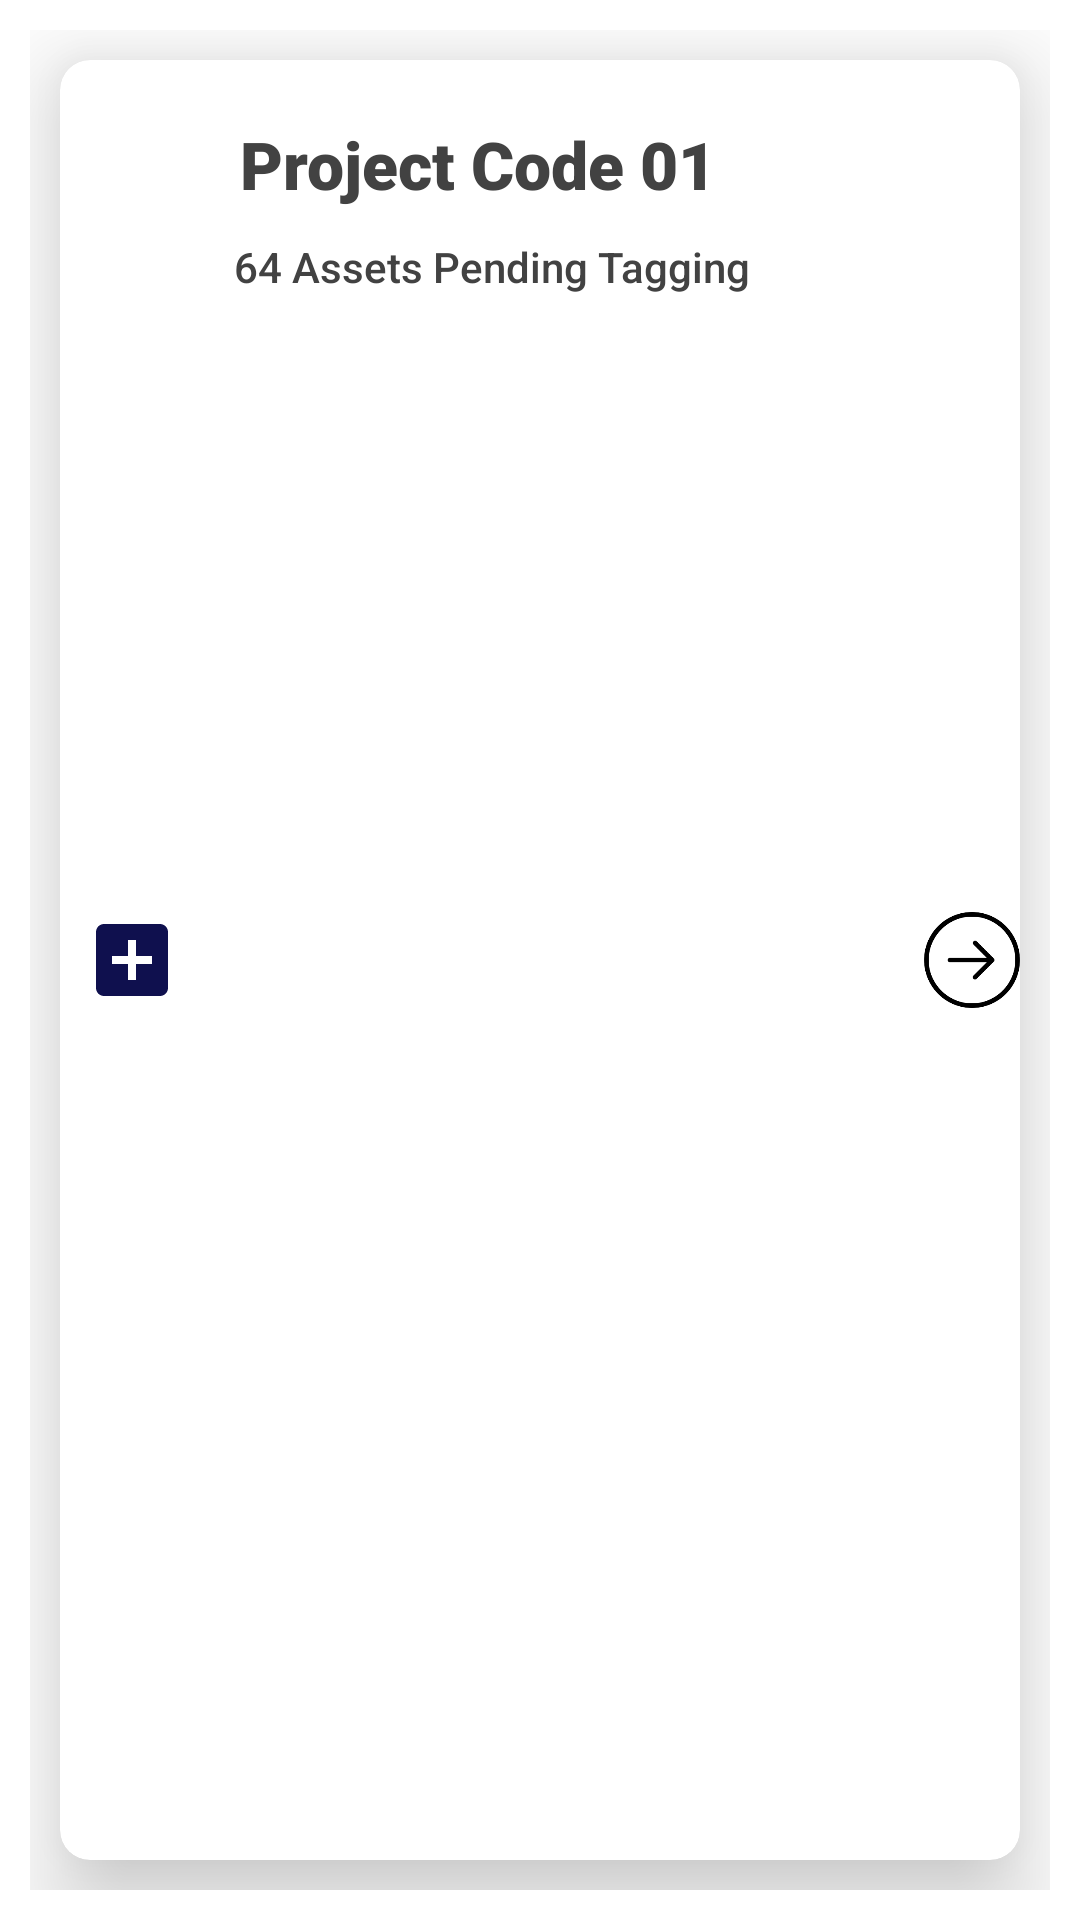

Named icons in this screenshot (1080*1920) and their centers, [x,y]:
add box: [132,960]
arrowinsidecircle: [972,960]
